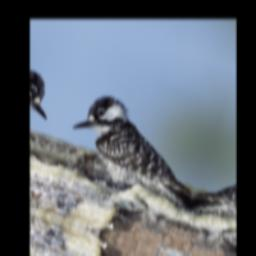Woodpecker: (47, 84, 213, 232)
